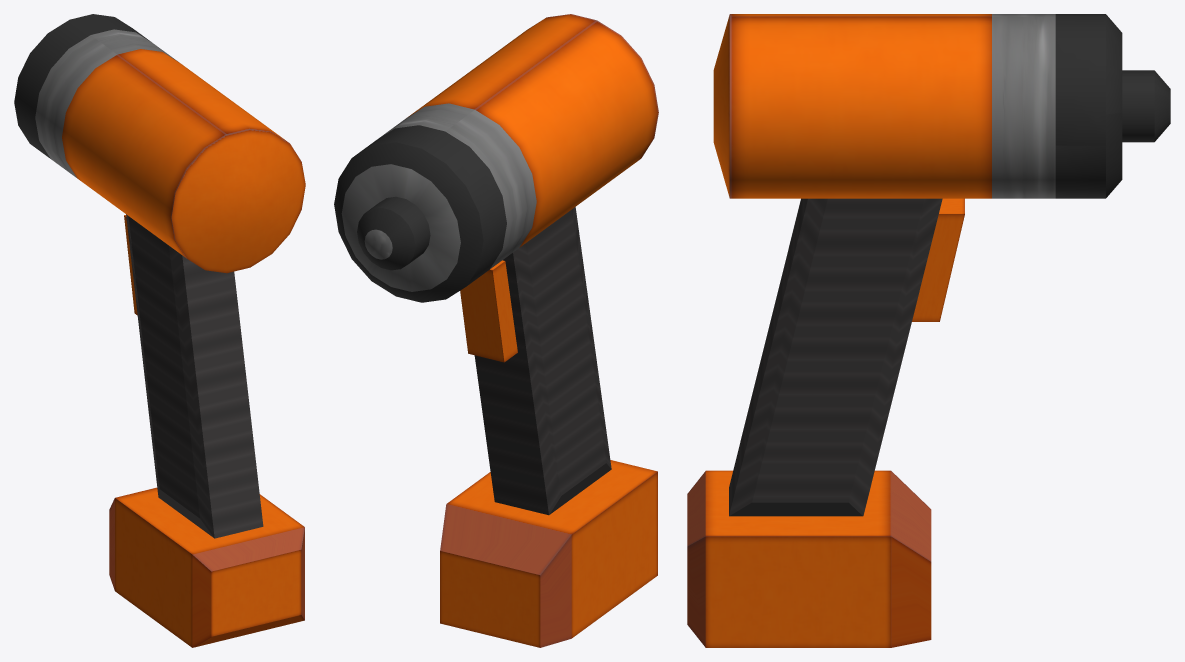
Rendered from Screwdriver.FBX.
3 renders of one model, left to right at view 1: azimuth 30°, elevation 25°; view 2: azimuth 150°, elevation 25°; view 3: azimuth 270°, elevation 25°, orthographic. The views are drawn at different scales.
Parts seen in each view (by area): view 1: Cylinder001, Box002, Box003; view 2: Cylinder001, Box003, Box002, Box004; view 3: Cylinder001, Box002, Box003, Box004.
Boxes of the visible parts, x1,y1,x2,y2 form: Cylinder001: [14, 14, 305, 273]; Box002: [126, 214, 263, 538]; Box003: [109, 487, 304, 647]; Cylinder001: [334, 14, 658, 302]; Box003: [440, 460, 657, 647]; Box002: [474, 207, 611, 515]; Box004: [460, 260, 517, 362]; Cylinder001: [713, 14, 1170, 198]; Box002: [729, 198, 942, 516]; Box003: [687, 470, 931, 647]; Box004: [912, 198, 964, 321].
Bounding box in the file's own units: 0.1 × 0.3521 × 0.2608.
1 material, 1 textured.
